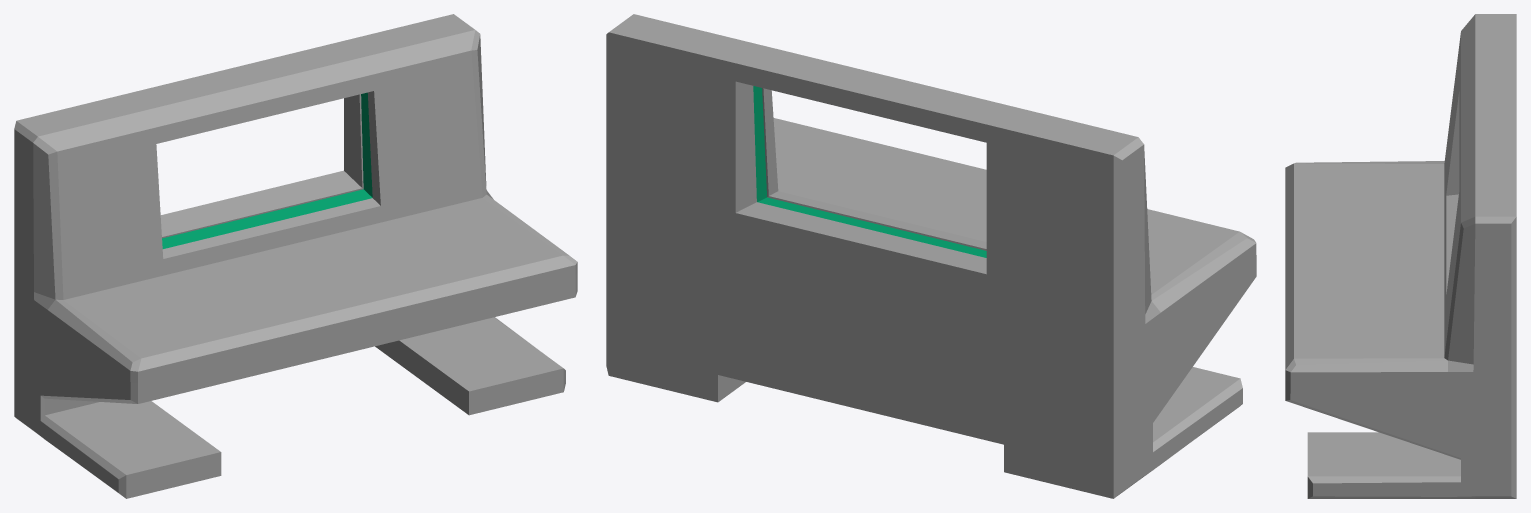
File: Bench_02.fbx
3 views of the same model, side by side, from view 1: azimuth 30°, elevation 25°; view 2: azimuth 150°, elevation 25°; view 3: azimuth 270°, elevation 25° (orthographic). The views are drawn at different scales.
Parts seen in each view (by area): view 1: Bench_02; view 2: Bench_02; view 3: Bench_02.
Part boxes in pixels (left/top/right/bottom): Bench_02: left=14, top=14, right=577, bottom=498; Bench_02: left=606, top=14, right=1256, bottom=498; Bench_02: left=1285, top=14, right=1516, bottom=498.
Bounding box in the file's own units: 258 × 164 × 122.
